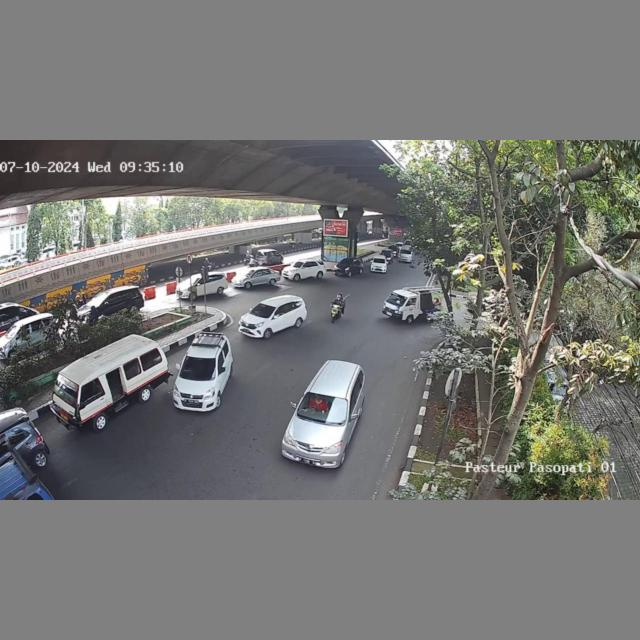windshield: (298, 394, 349, 423), (52, 372, 82, 406), (178, 357, 217, 381), (250, 303, 276, 318), (386, 291, 406, 306)
